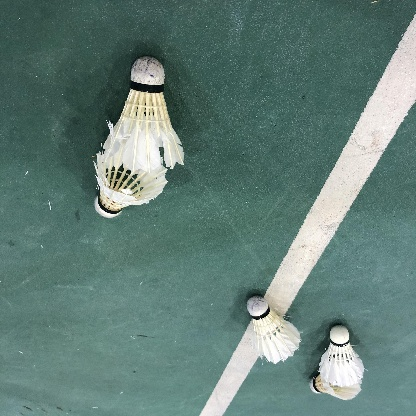ball_single: (102, 56, 184, 172), (95, 146, 168, 218), (247, 296, 300, 365), (319, 325, 364, 387), (309, 367, 362, 400)
